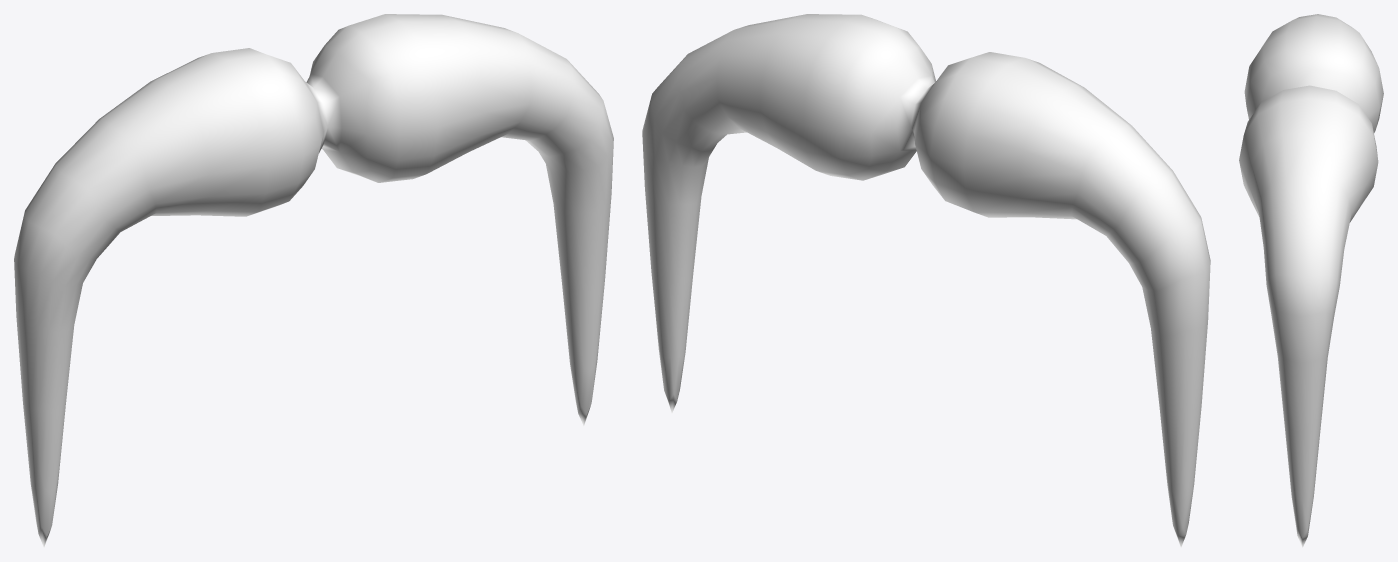
File: mustache.fbx
3 views of the same model, side by side, from view 1: azimuth 30°, elevation 25°; view 2: azimuth 150°, elevation 25°; view 3: azimuth 270°, elevation 25° (orthographic). The views are drawn at different scales.
Parts seen in each view (by area): view 1: pCube22; view 2: pCube22; view 3: pCube22.
Boxes of the visible parts, x1,y1,x2,y2 form: pCube22: [14, 14, 613, 547]; pCube22: [642, 14, 1210, 547]; pCube22: [1239, 14, 1383, 547].
Bounding box in the file's own units: 0.5174 × 0.3802 × 0.133.
Materials: 1 (1 with a texture image).
